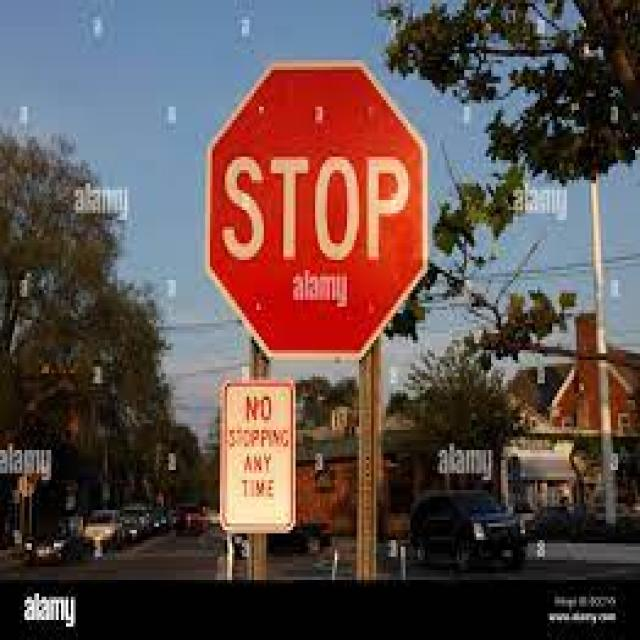stop-sign: (222, 0, 429, 413)
